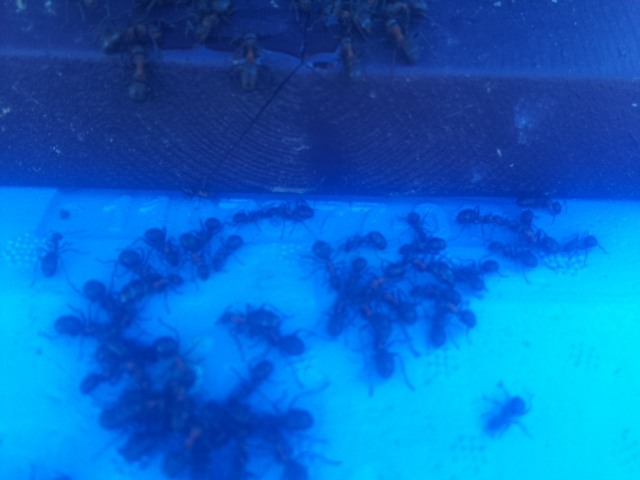ant: (308, 233, 349, 291), (126, 37, 150, 107), (235, 39, 262, 84)
